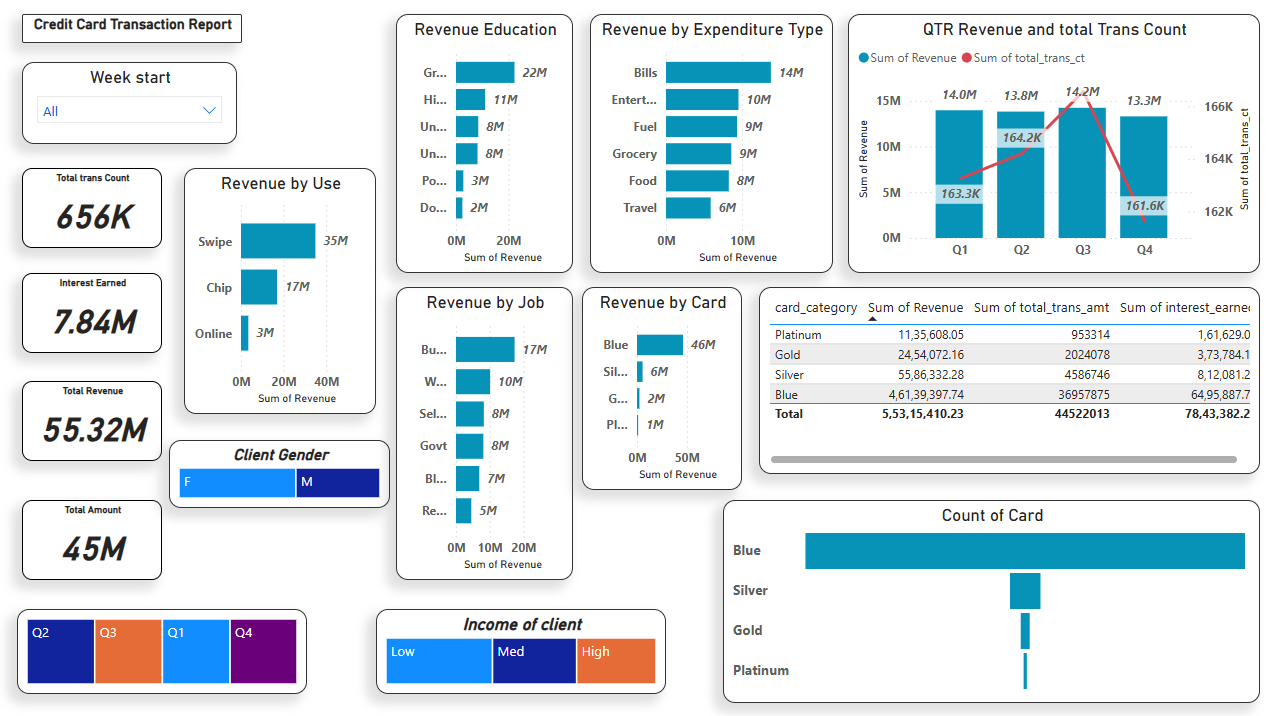

What the dashboard file says about the page in this screenshot:
{"tool":"powerbi","page":{"name":"Credit Card Transactions","canvas":[1280,720],"ordinal":0},"visuals":[{"type":"textbox","title":"Credit Card Transaction Report","box":[25.4,16.2,220,29.2],"z":0},{"type":"lineStackedColumnComboChart","title":"QTR Revenue and total Trans Count","fields":{"Category":["public cc_details.qtr"],"Y":["Sum(public cc_details.Revenue)"],"Y2":["Sum(public cc_details.total_trans_ct)"]},"box":[851,16,412,259],"z":1000},{"type":"barChart","title":"Revenue by Expenditure Type","fields":{"Y":["Sum(public cc_details.Revenue)"],"Category":["public cc_details.exp_type"]},"box":[593,16,243,259],"z":2000},{"type":"barChart","title":"Revenue Education","fields":{"Y":["Sum(public cc_details.Revenue)"],"Category":["public cust_details.education_level"]},"box":[399,16,177,259],"z":3000},{"type":"barChart","title":"Revenue by Job","fields":{"Y":["Sum(public cc_details.Revenue)"],"Category":["public cust_details.customer_job"]},"box":[399,289,177,293],"z":4000},{"type":"barChart","title":"Revenue by Card","fields":{"Y":["Sum(public cc_details.Revenue)"],"Category":["public cc_details.card_category"]},"box":[585,289,160,203],"z":5000},{"type":"barChart","title":"Revenue by Use","fields":{"Y":["Sum(public cc_details.Revenue)"],"Category":["public cc_details.use_chip"]},"box":[187,170,192,246],"z":6000},{"type":"tableEx","fields":{"Values":["public cc_details.card_category","Sum(public cc_details.Revenue)","Sum(public cc_details.total_trans_amt)","Sum(public cc_details.interest_earned)"]},"box":[762,289,501,187],"z":7000},{"type":"card","title":"Total Revenue","fields":{"Values":["Sum(public cc_details.Revenue)"]},"box":[25,383,140,80],"z":8000},{"type":"card","title":"Total Amount","fields":{"Values":["Sum(public cc_details.total_trans_amt)"]},"box":[25,502,140,80],"z":9000},{"type":"card","title":"Interest Earned","fields":{"Values":["Sum(public cc_details.interest_earned)"]},"box":[25,275,140,80],"z":10000},{"type":"card","title":"Total trans Count","fields":{"Values":["Sum(public cc_details.total_trans_ct)"]},"box":[25,170,140,80],"z":11000},{"type":"slicer","title":"Week start","fields":{"Values":["public cc_details.week_start_date"]},"box":[25,64,215,82],"z":12000},{"type":"treemap","fields":{"Group":["public cc_details.qtr"],"Values":["CountNonNull(public cc_details.client_num)"]},"box":[20,611,290,85],"z":13000},{"type":"treemap","title":"Client Gender","fields":{"Group":["public cust_details.gender","public cc_details.card_category"],"Values":["CountNonNull(public cc_details.client_num)"]},"box":[172,442,221,68],"z":14000},{"type":"funnel","title":"Count of Card","fields":{"Category":["public cc_details.card_category"],"Y":["CountNonNull(public cc_details.client_num)"]},"box":[726,502,537,203],"z":15000},{"type":"treemap","title":"Income of client","fields":{"Group":["public cust_details.IncomeGroup"],"Values":["CountNonNull(public cc_details.client_num)"]},"box":[379,611,290,85],"z":16000}]}

Visuals, with their boxes in screenshot pixels (x1, y1, x2, y2), scaled from the page's 1280x720 canvas onto the 1276x716 screenshot:
"Credit Card Transaction Report" textbox: [left=25, top=16, right=245, bottom=45]
"QTR Revenue and total Trans Count" lineStackedColumnComboChart: [left=848, top=16, right=1259, bottom=273]
"Revenue by Expenditure Type" barChart: [left=591, top=16, right=833, bottom=273]
"Revenue Education" barChart: [left=398, top=16, right=574, bottom=273]
"Revenue by Job" barChart: [left=398, top=287, right=574, bottom=579]
"Revenue by Card" barChart: [left=583, top=287, right=743, bottom=489]
"Revenue by Use" barChart: [left=186, top=169, right=378, bottom=414]
tableEx - public cc_details.card_category x Sum(public cc_details.Revenue): [left=760, top=287, right=1259, bottom=473]
"Total Revenue" card: [left=25, top=381, right=164, bottom=460]
"Total Amount" card: [left=25, top=499, right=164, bottom=579]
"Interest Earned" card: [left=25, top=273, right=164, bottom=353]
"Total trans Count" card: [left=25, top=169, right=164, bottom=249]
"Week start" slicer: [left=25, top=64, right=239, bottom=145]
treemap - public cc_details.qtr x CountNonNull(public cc_details.client_num): [left=20, top=608, right=309, bottom=692]
"Client Gender" treemap: [left=171, top=440, right=392, bottom=507]
"Count of Card" funnel: [left=724, top=499, right=1259, bottom=701]
"Income of client" treemap: [left=378, top=608, right=667, bottom=692]
